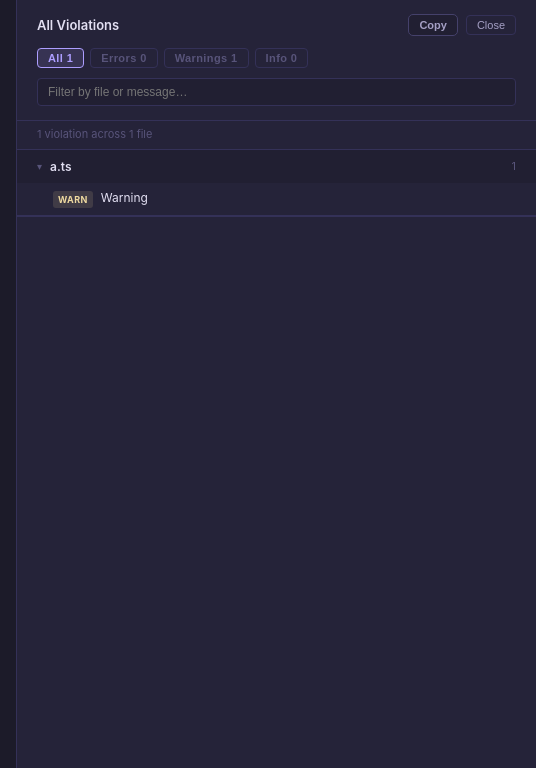
it: ViolationsPanel › shows "No violations match your filter" when search has no results
The image size is (536, 768).
Type "nonexistent-xyz" into the field with placeholder "Filter by file or message…".
click(276, 92); type("nonexistent-xyz")  # box left=37, top=78, right=516, bottom=106
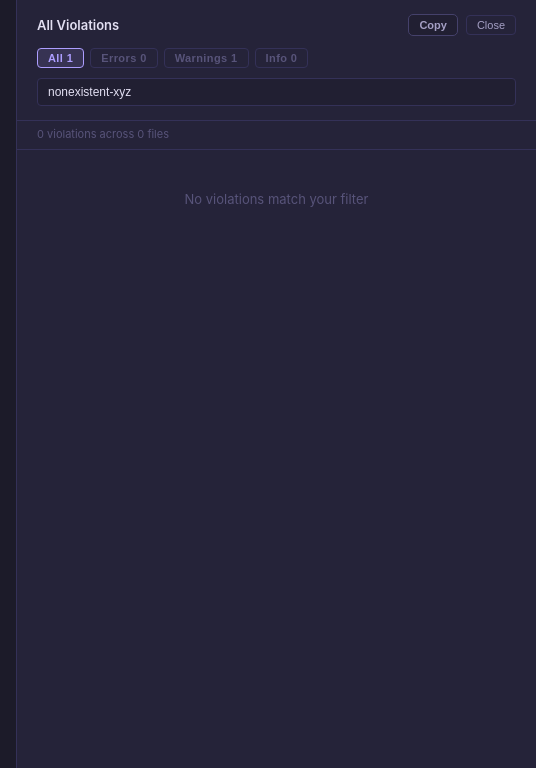
Check: the text "No violations match your filter" is shown, box left=184, top=191, right=368, bottom=207
